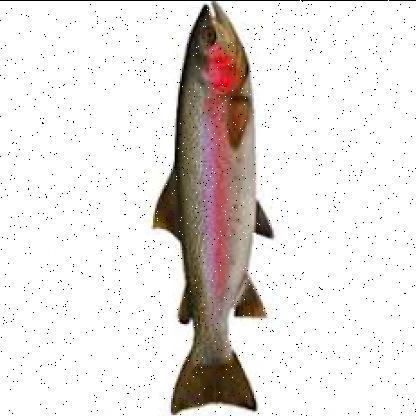fish: (148, 2, 274, 412)
